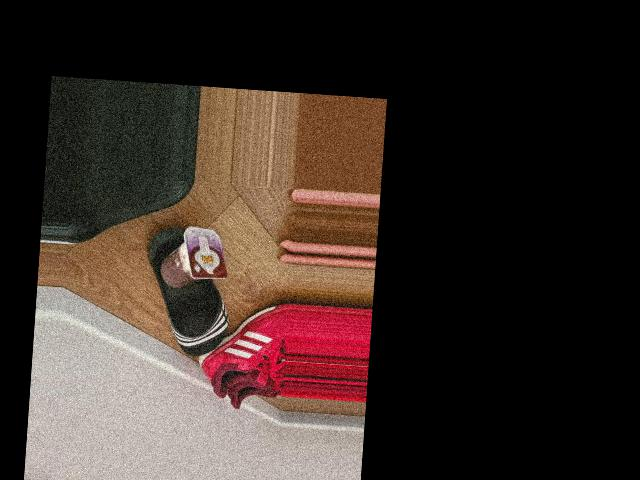milky: (153, 224, 233, 296)
